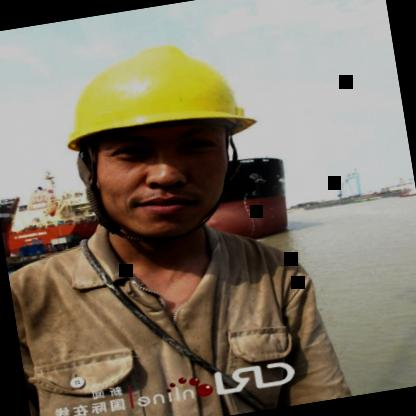helmet: (22, 9, 298, 266)
